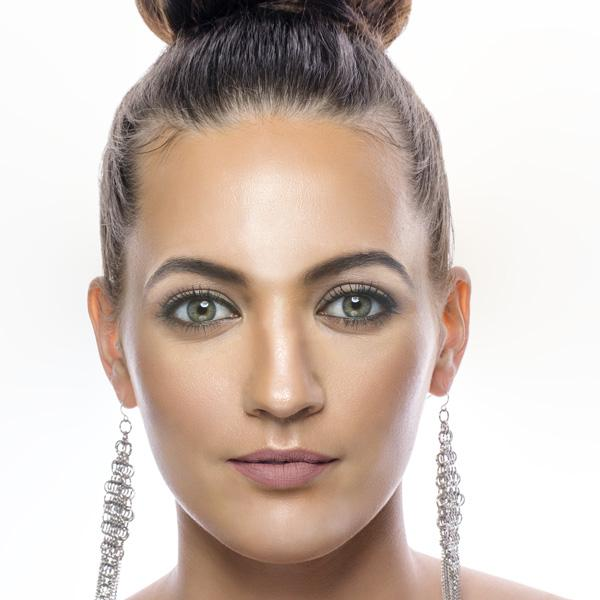Eyes: (154, 281, 249, 344), (308, 278, 406, 334)
